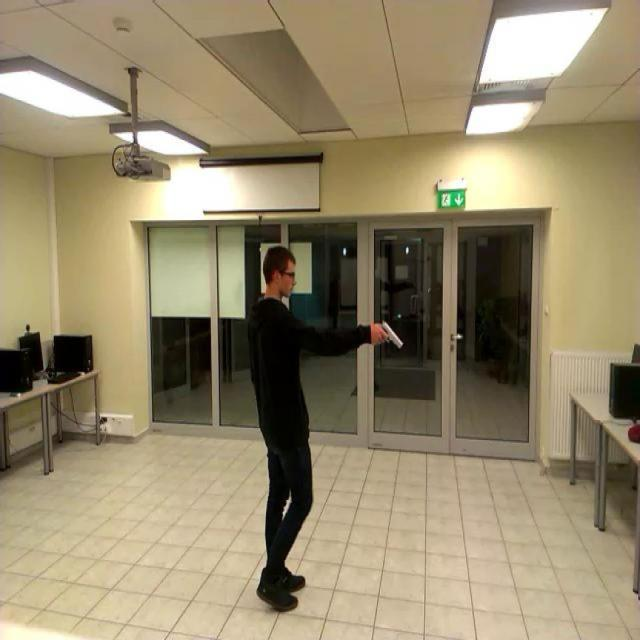pistol: (374, 320, 402, 348)
